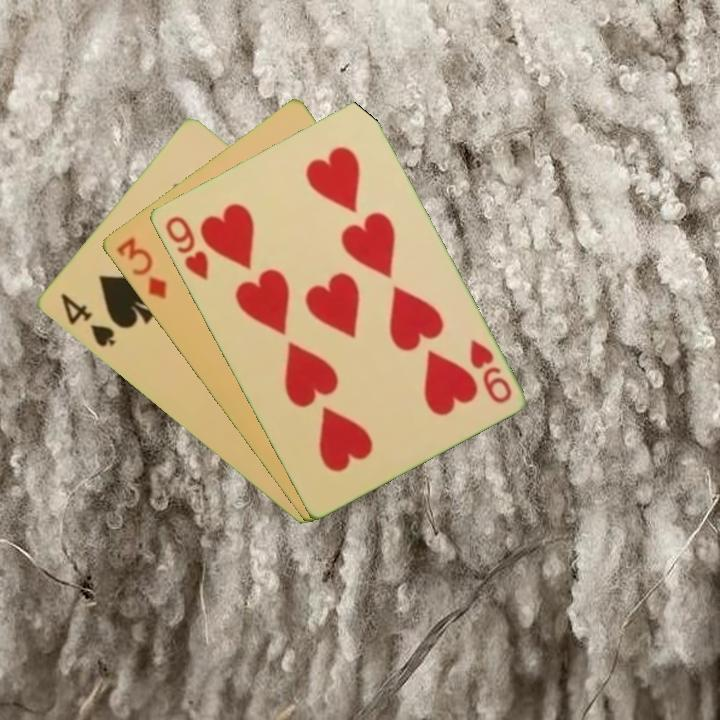3d: (111, 233, 169, 302)
4s: (56, 290, 118, 350)
9h: (465, 335, 515, 407), (161, 212, 211, 283)
